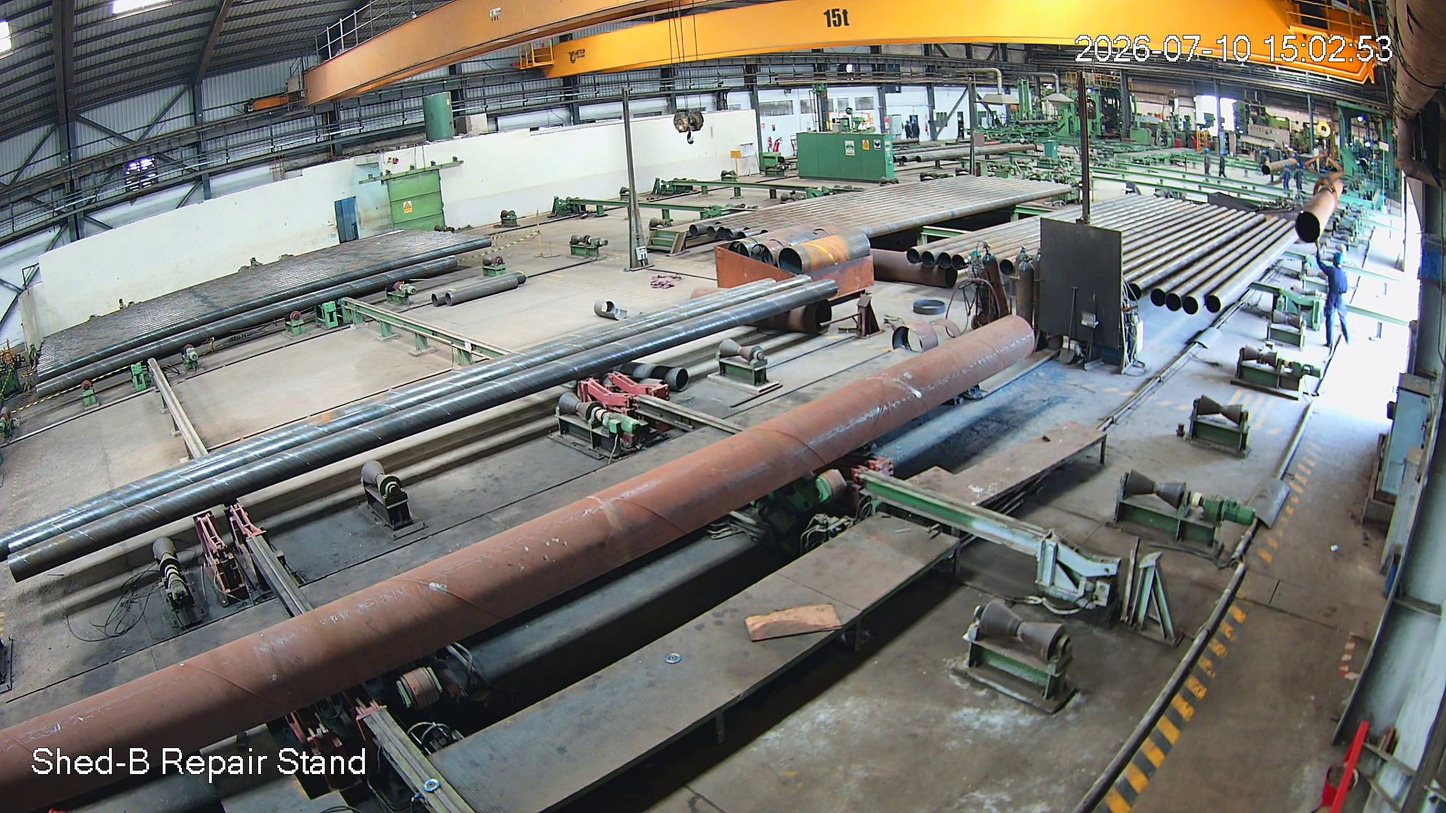Helmet: (1324, 247, 1359, 278)
Person: (1321, 250, 1347, 348)
